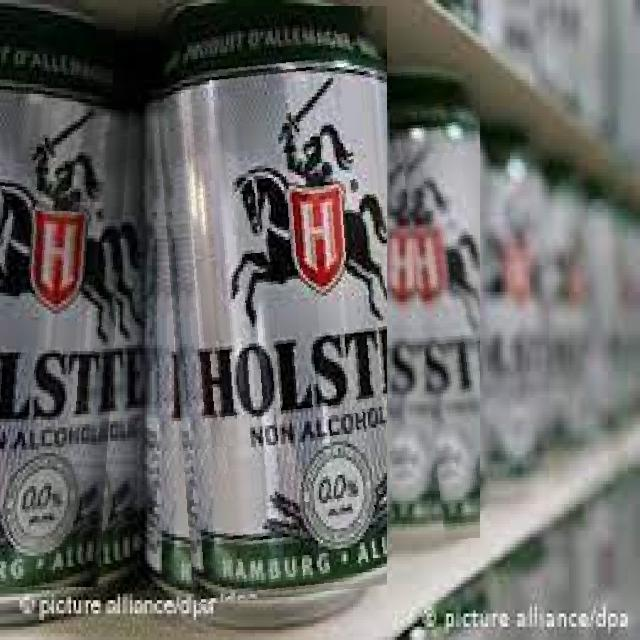Cans: (150, 6, 387, 605), (0, 0, 137, 587), (393, 72, 480, 540)
